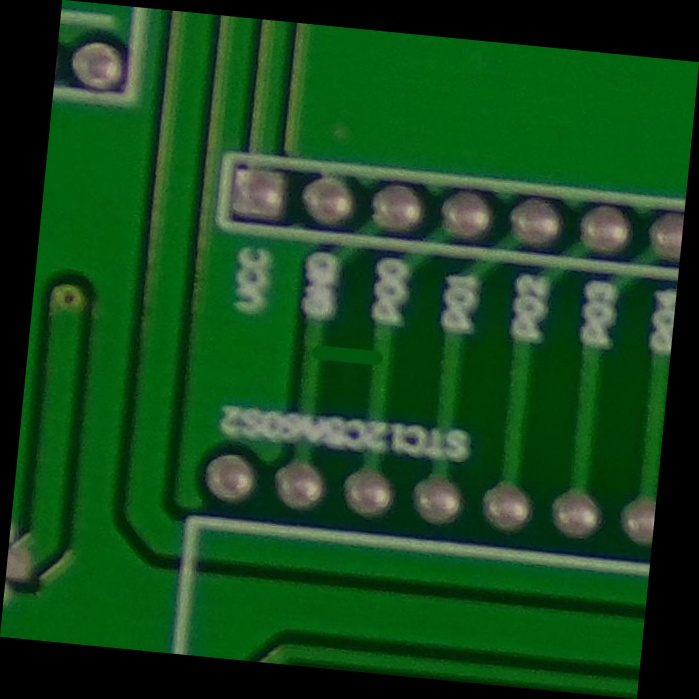short: (291, 299, 408, 400)
